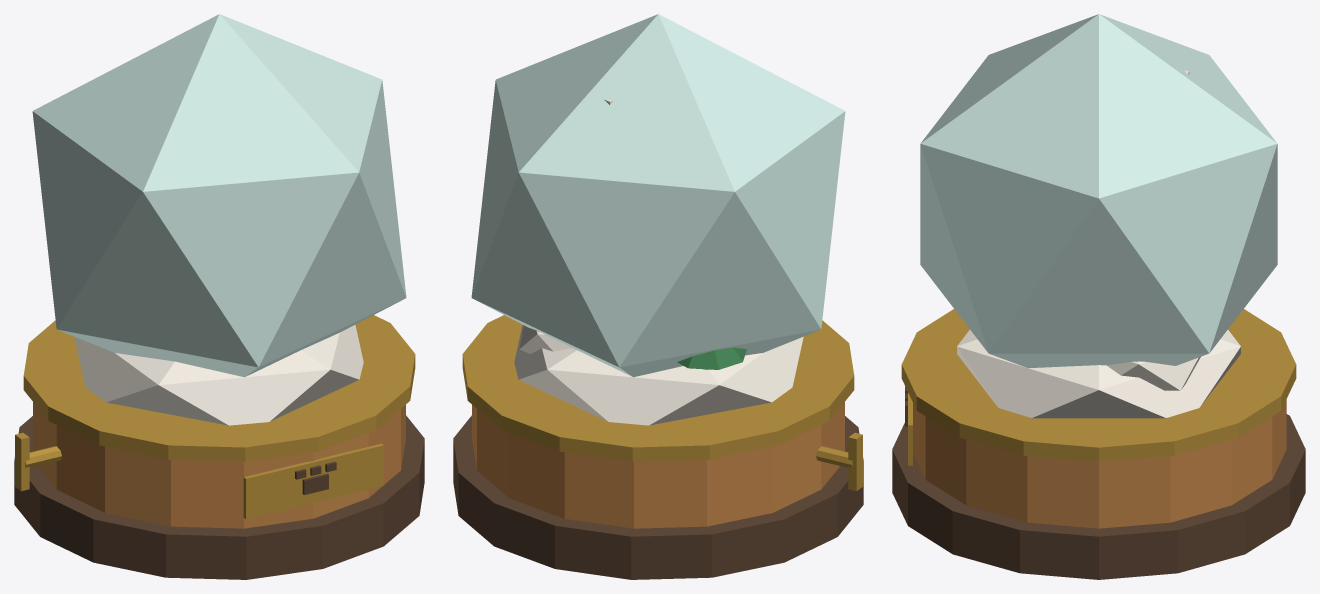
The model's file is CatCafe_Decor_GiantSnowGlobe.glb.
3 views of the same model, side by side, from view 1: azimuth 30°, elevation 25°; view 2: azimuth 150°, elevation 25°; view 3: azimuth 270°, elevation 25° (orthographic).
Visible parts, largest first — view 1: CatCafe_Decor_GiantSnowGlobe_Glass, CatCafe_Decor_GiantSnowGlobe; view 2: CatCafe_Decor_GiantSnowGlobe_Glass, CatCafe_Decor_GiantSnowGlobe; view 3: CatCafe_Decor_GiantSnowGlobe_Glass, CatCafe_Decor_GiantSnowGlobe.
Part boxes in pixels (box(x1,y1,x2,y2)): CatCafe_Decor_GiantSnowGlobe_Glass: box(32, 14, 406, 377); CatCafe_Decor_GiantSnowGlobe: box(14, 315, 424, 579); CatCafe_Decor_GiantSnowGlobe_Glass: box(471, 14, 845, 377); CatCafe_Decor_GiantSnowGlobe: box(453, 315, 863, 579); CatCafe_Decor_GiantSnowGlobe_Glass: box(920, 14, 1277, 368); CatCafe_Decor_GiantSnowGlobe: box(892, 309, 1305, 579).
Bounding box in the file's own units: 2.76 × 3.32 × 2.6.
1 material, 1 textured.
